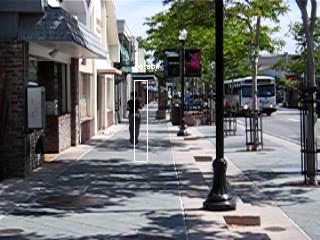person: (124, 91, 143, 148), (123, 91, 142, 148), (125, 91, 144, 148), (124, 90, 143, 147), (124, 92, 143, 149)
target_negative: (19, 99, 182, 193), (63, 33, 102, 187), (16, 176, 277, 194), (137, 154, 218, 210), (192, 94, 297, 121), (241, 184, 317, 190)
